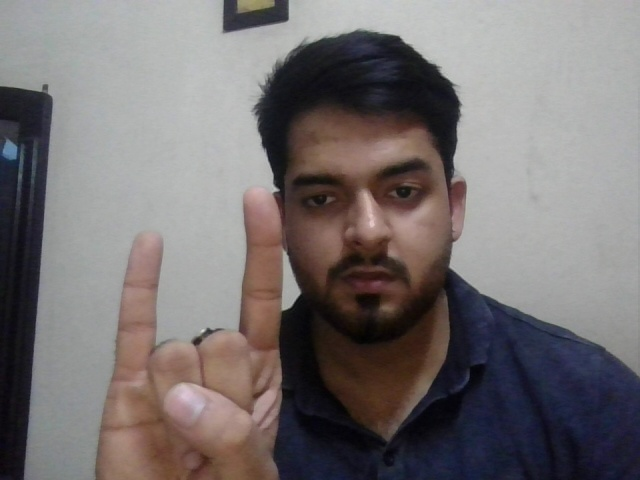iloveyou: (90, 183, 283, 477)
